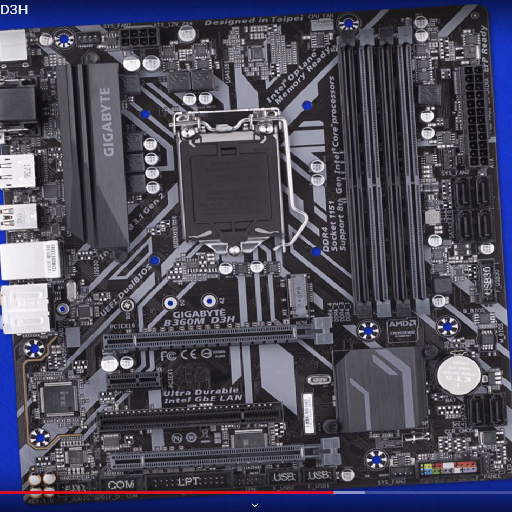CPU: (175, 130, 285, 256)
GPU: (108, 436, 342, 470), (100, 316, 334, 348)
MOTHERBOARD: (4, 23, 508, 498)
RAM: (334, 24, 433, 321)
SSD: (278, 273, 316, 318)
